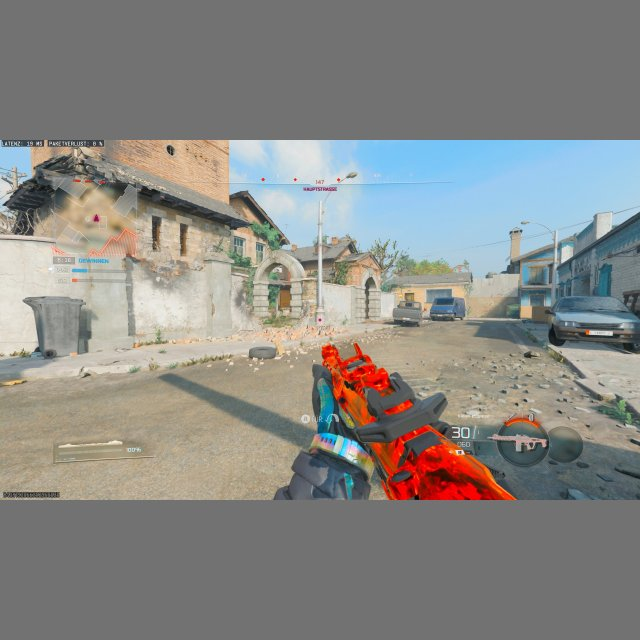player: (266, 283, 281, 320)
